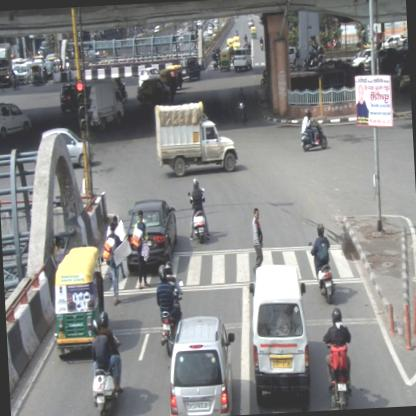car: (165, 313, 237, 415), (122, 198, 178, 274), (0, 102, 31, 139), (233, 48, 251, 73)
motorcycle: (87, 310, 126, 415), (322, 304, 354, 410), (155, 263, 185, 356), (310, 220, 334, 303), (188, 178, 210, 246), (299, 106, 328, 150)
truck: (153, 101, 236, 177), (80, 79, 126, 132), (0, 40, 13, 86)
